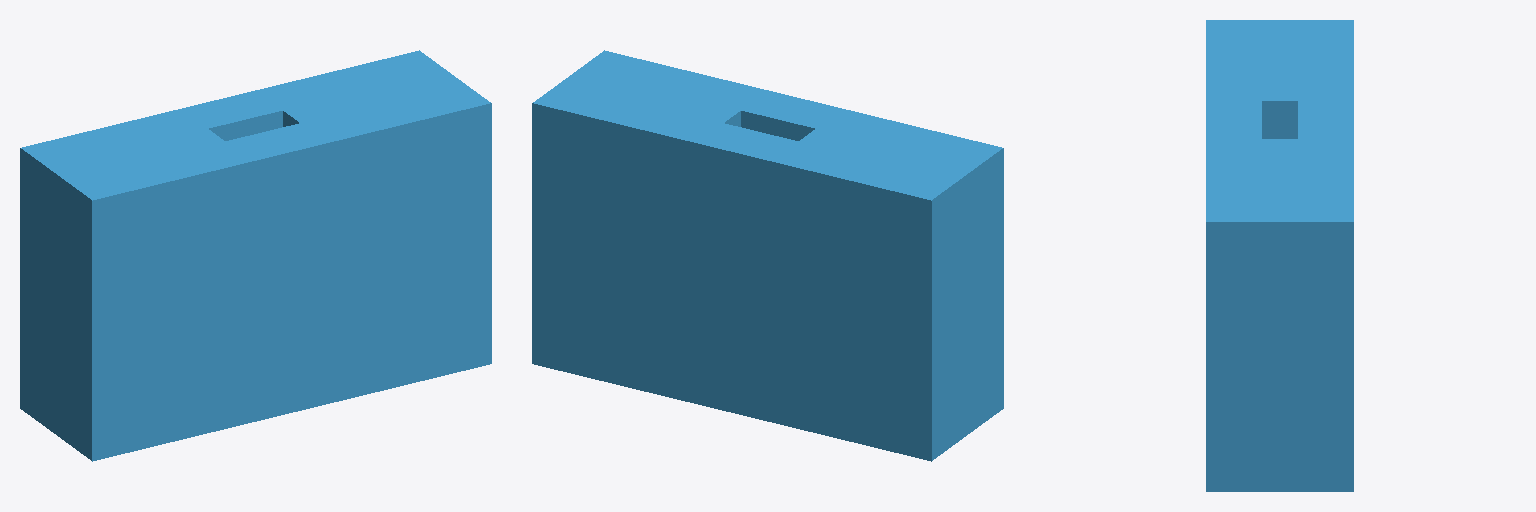
robot.urdf — padlock:
<?xml version="1.0"?>
<robot name="padlock">
  <link name="world" />

  <link name="padlock">
    <visual>
      <geometry>
	    <mesh filename="package://lock_key/mesh/lock.STL" />
      </geometry>

    </visual>
    <collision>
      <geometry>
	    <mesh filename="package://lock_key/mesh/lock.STL" />
      </geometry>
    </collision>
    <!-- PLACEHOLDER VALUES -->
    <inertial>
      <mass value="0.1" />
      <inertia ixx="0.1" ixy="0.1" ixz="0.1"
	       iyy="0.1" iyz="0.1"
	       izz="0.1" />
    </inertial>
  </link>
      <gazebo reference="padlock">
      <material>Gazebo/Green</material>
      </gazebo>
  <joint name="table_padlock" type="fixed">
    <origin rpy="0 0 0" xyz="-0.1 0 0" />
    <parent link="world" />
    <child link="padlock" />
  </joint>

</robot>

--- Render facts (derived) ---
Views: 3 orthographic renders of the robot side by side, from view 1: azimuth 30°, elevation 25°; view 2: azimuth 150°, elevation 25°; view 3: azimuth 270°, elevation 25°.
Robot: padlock — 2 links, 1 joints (1 fixed); root link world; default pose: every joint at zero.
Links seen in each view (by area): view 1: padlock; view 2: padlock; view 3: padlock.
Link boxes in pixels (x1,y1,x2,y2): padlock: [20, 50, 491, 461]; padlock: [532, 50, 1003, 461]; padlock: [1206, 20, 1353, 491].
Bounding box of the posed robot: 0.08 × 0.025 × 0.05 m (x, y, z).
Meshes: 1 distinct files referenced, 1 mesh visuals loaded (1 binary STL).